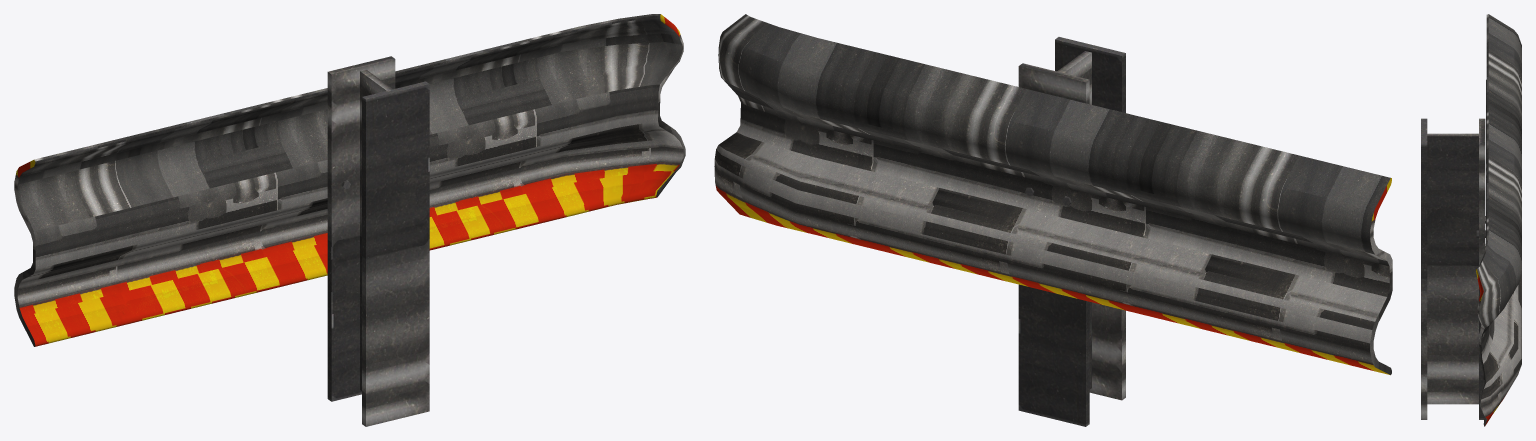
The model's file is rail 11.FBX.
3 views of the same model, side by side, from view 1: azimuth 30°, elevation 25°; view 2: azimuth 150°, elevation 25°; view 3: azimuth 270°, elevation 25° (orthographic). The views are drawn at different scales.
Visible parts, largest first — view 1: guardrail_end_left_b; view 2: guardrail_end_left_b; view 3: guardrail_end_left_b.
Part boxes in pixels (x1,y1,x2,y2): guardrail_end_left_b: (14, 14, 685, 426); guardrail_end_left_b: (714, 14, 1392, 426); guardrail_end_left_b: (1421, 14, 1521, 426).
Bounding box in the file's own units: 208 × 101 × 33.42.
